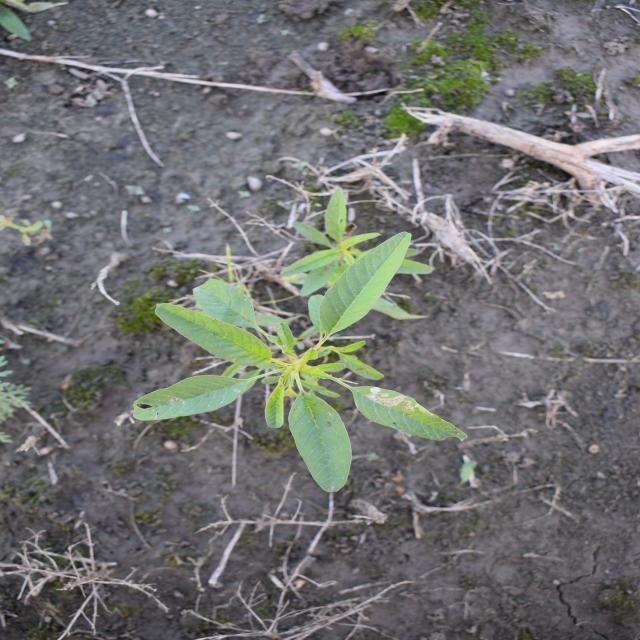Waterhemp: (128, 185, 472, 494)
